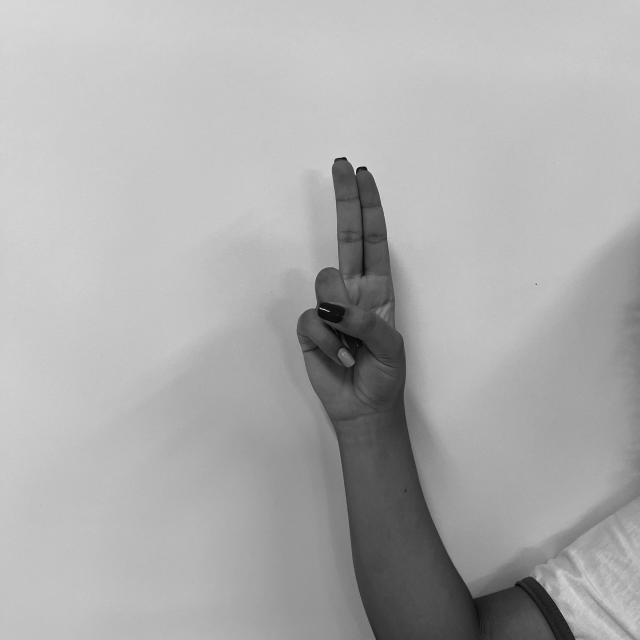Letra U: (293, 147, 412, 420)
